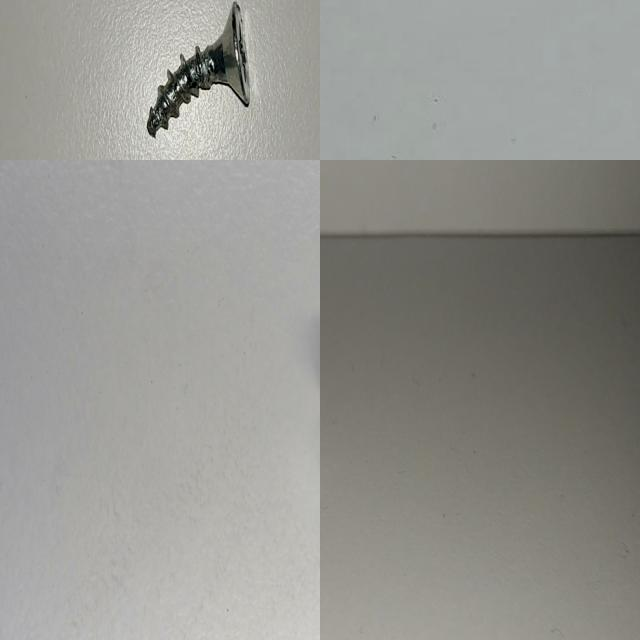Screw: (147, 2, 251, 136)
